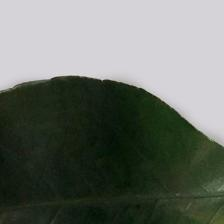healthy: (0, 90, 156, 218)
